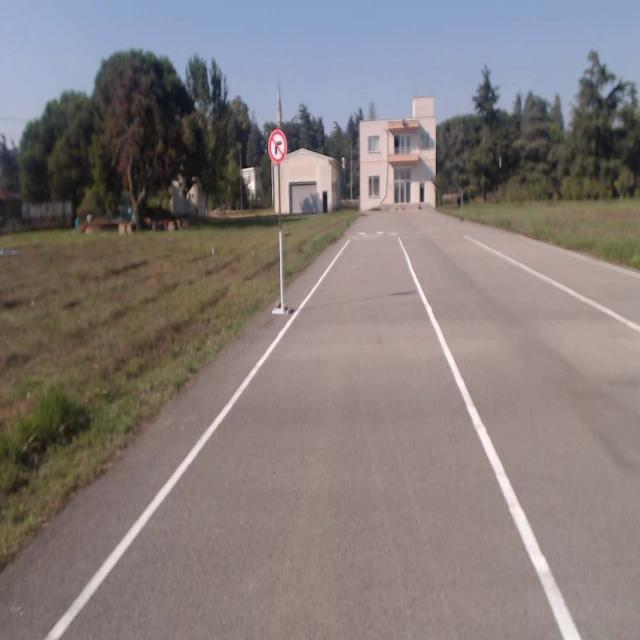sagadonulmez: (268, 130, 286, 162)
